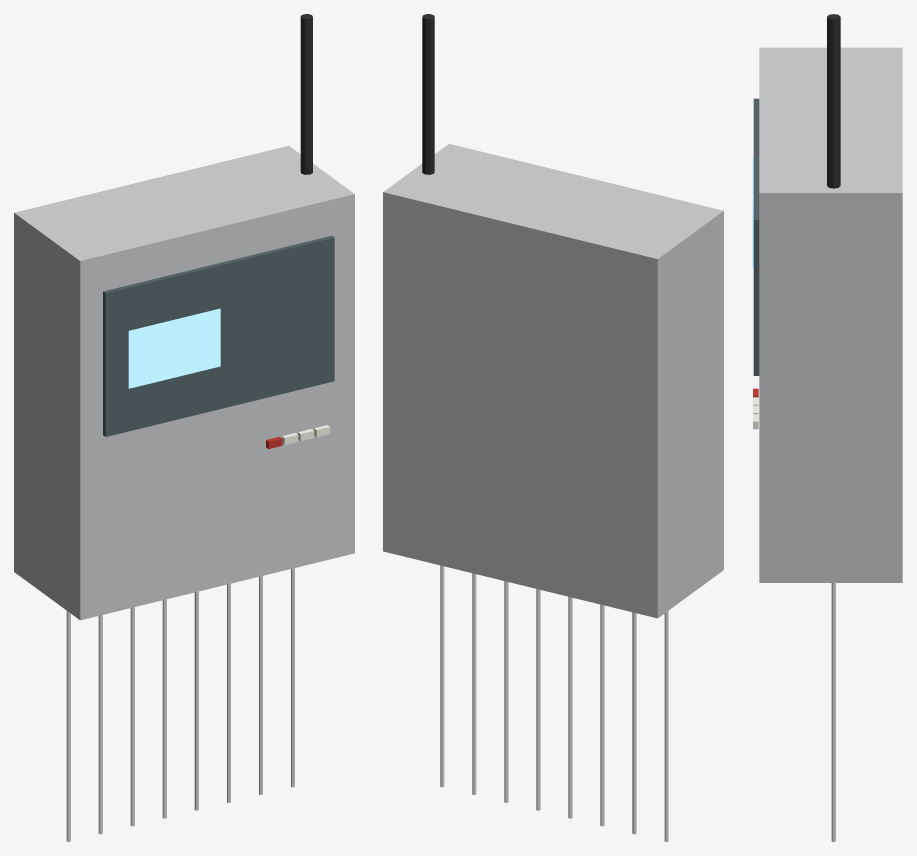
The model's file is SM_GasMonitor_Extractive.fbx.
The picture shows the model from 3 angles, left to right: view 1: azimuth 30°, elevation 25°; view 2: azimuth 150°, elevation 25°; view 3: azimuth 270°, elevation 25°; orthographic projection. The views are drawn at different scales.
Parts seen in each view (by area): view 1: GD_Extractive; view 2: GD_Extractive; view 3: GD_Extractive.
Part boxes in pixels (bbox=[...]): GD_Extractive: bbox=[14, 14, 354, 841]; GD_Extractive: bbox=[383, 14, 723, 841]; GD_Extractive: bbox=[752, 14, 902, 841].
Bounding box in the file's own units: 60 × 160 × 26.2.
